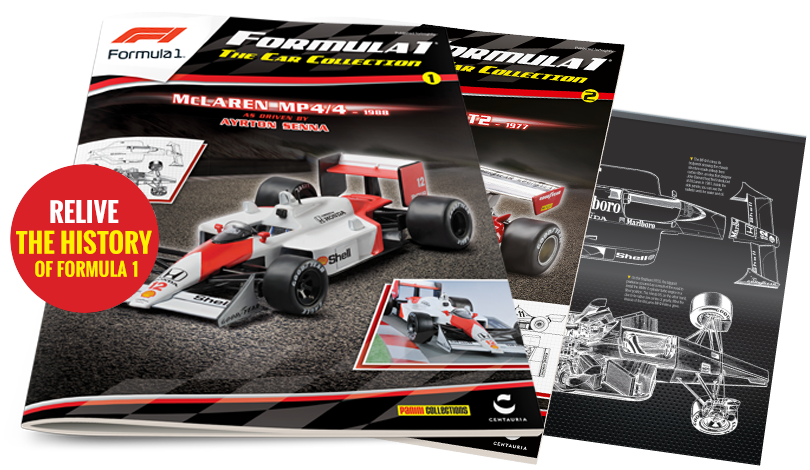f1_car: (111, 143, 480, 332), (384, 276, 531, 363)
